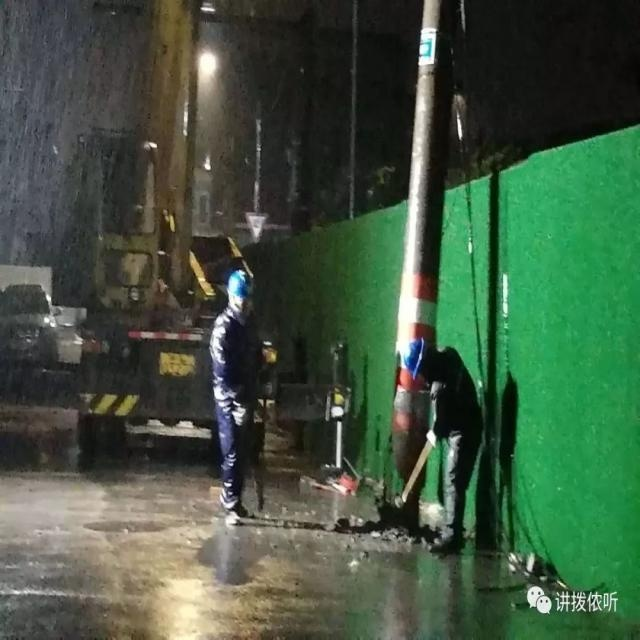Con_Casco: (227, 269, 254, 315), (404, 339, 430, 384)
